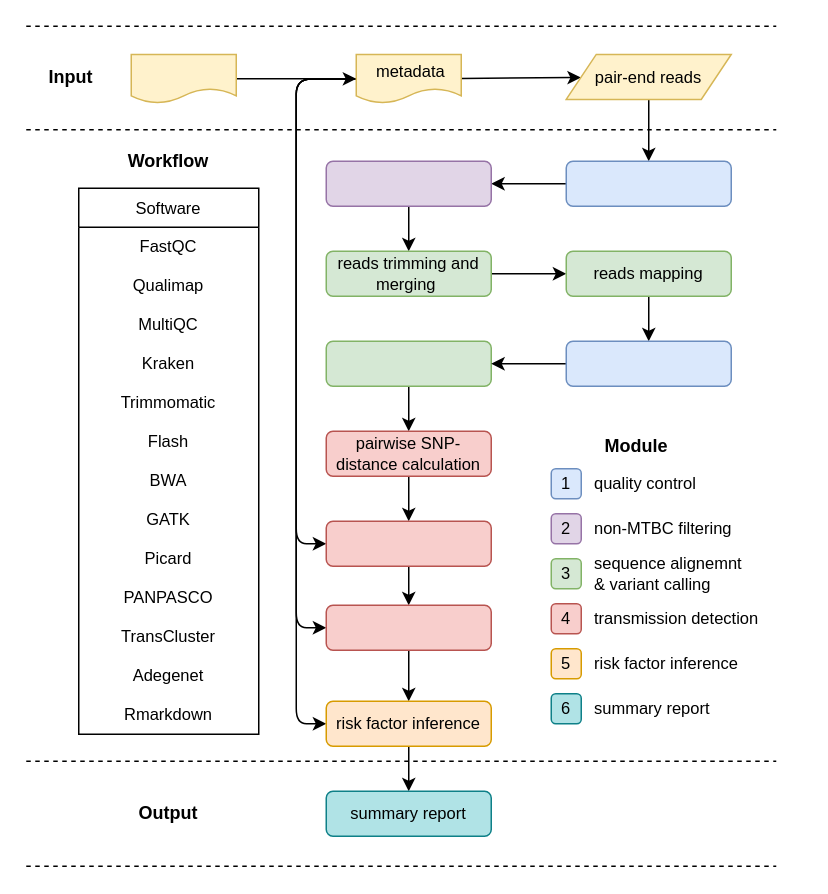
This 828x894 diagram has some shape labels left out. Each missing label, with the box of its shape:
alignment QC: (565, 340, 731, 386)
config: (130, 53, 236, 103)
non-MTBC reads filtering: (325, 160, 491, 206)
reads QC: (565, 160, 731, 206)
transmission clustering: (325, 520, 491, 566)
transmission network building: (325, 604, 491, 650)
variants calling: (325, 340, 491, 386)
